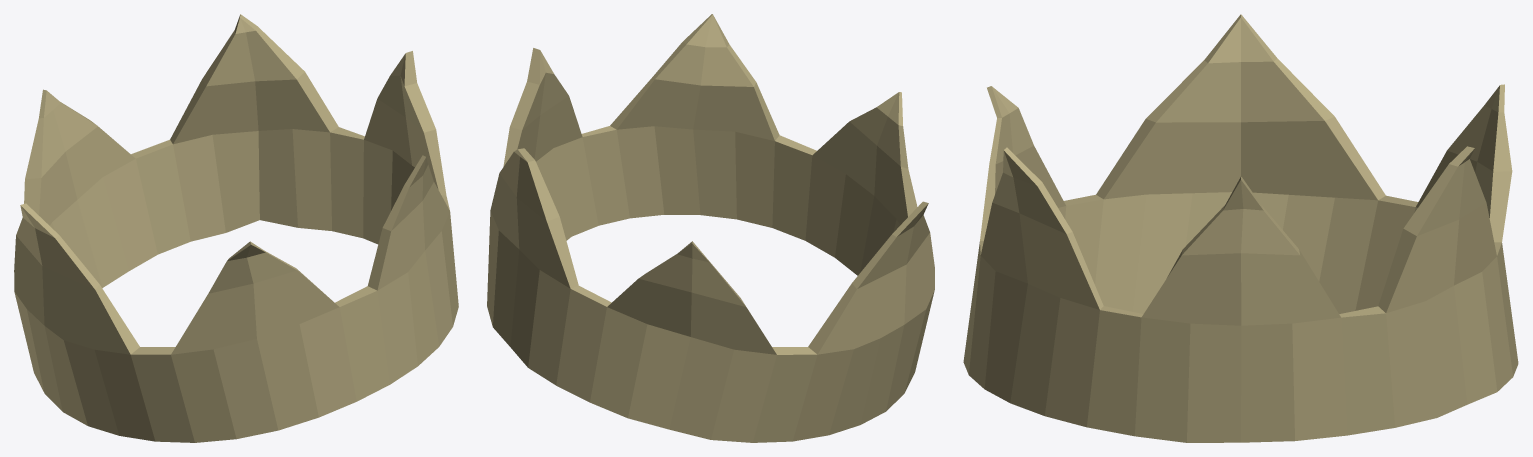
File: rat_king_crown (1).fbx
3 views of the same model, side by side, from view 1: azimuth 30°, elevation 25°; view 2: azimuth 150°, elevation 25°; view 3: azimuth 270°, elevation 25° (orthographic). The views are drawn at different scales.
Parts seen in each view (by area): view 1: crown; view 2: crown; view 3: crown.
Part boxes in pixels (bbox=[...]): crown: bbox=[14, 14, 458, 442]; crown: bbox=[487, 14, 934, 442]; crown: bbox=[963, 14, 1518, 442].
Size of the model in its own units: 77.18 by 50.4 by 73.82.
